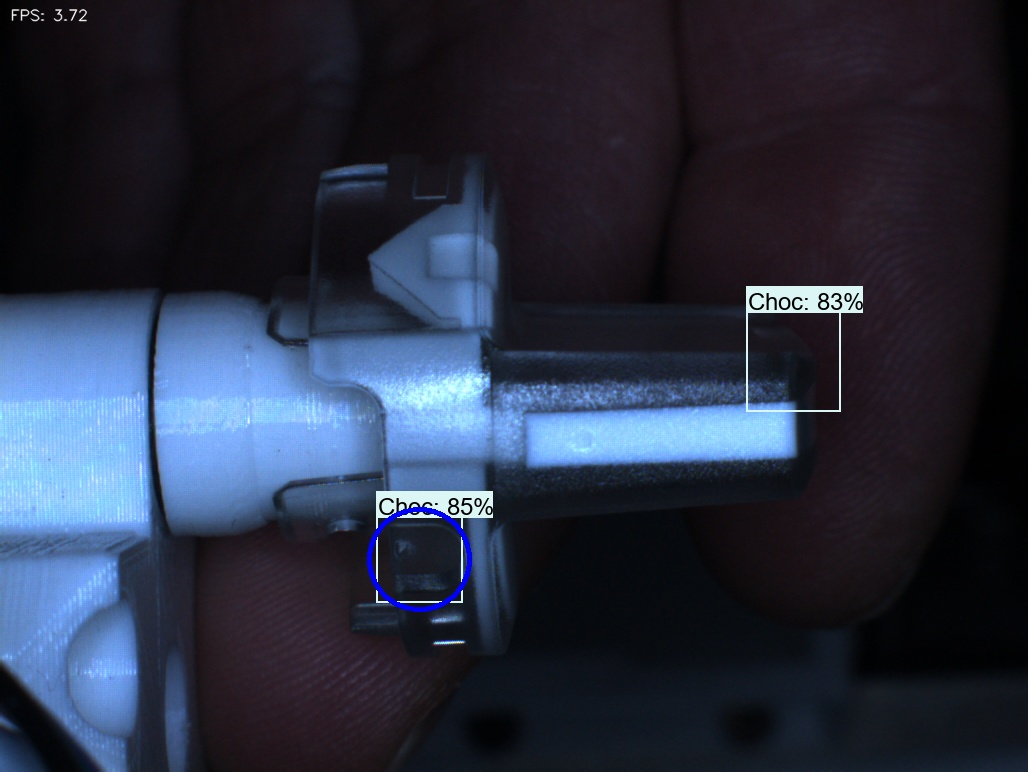DentOk: (332, 227, 420, 321)
